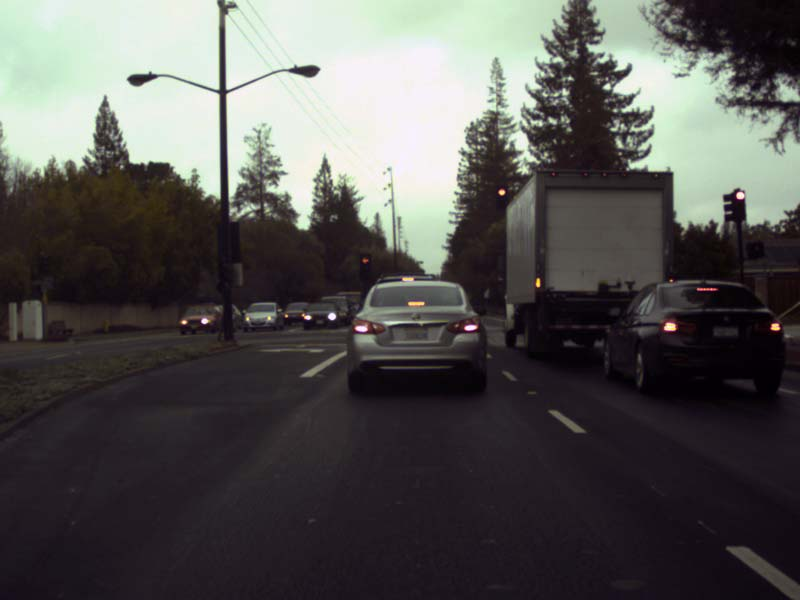Red: (733, 190, 746, 219), (495, 185, 508, 210), (360, 253, 372, 280)
